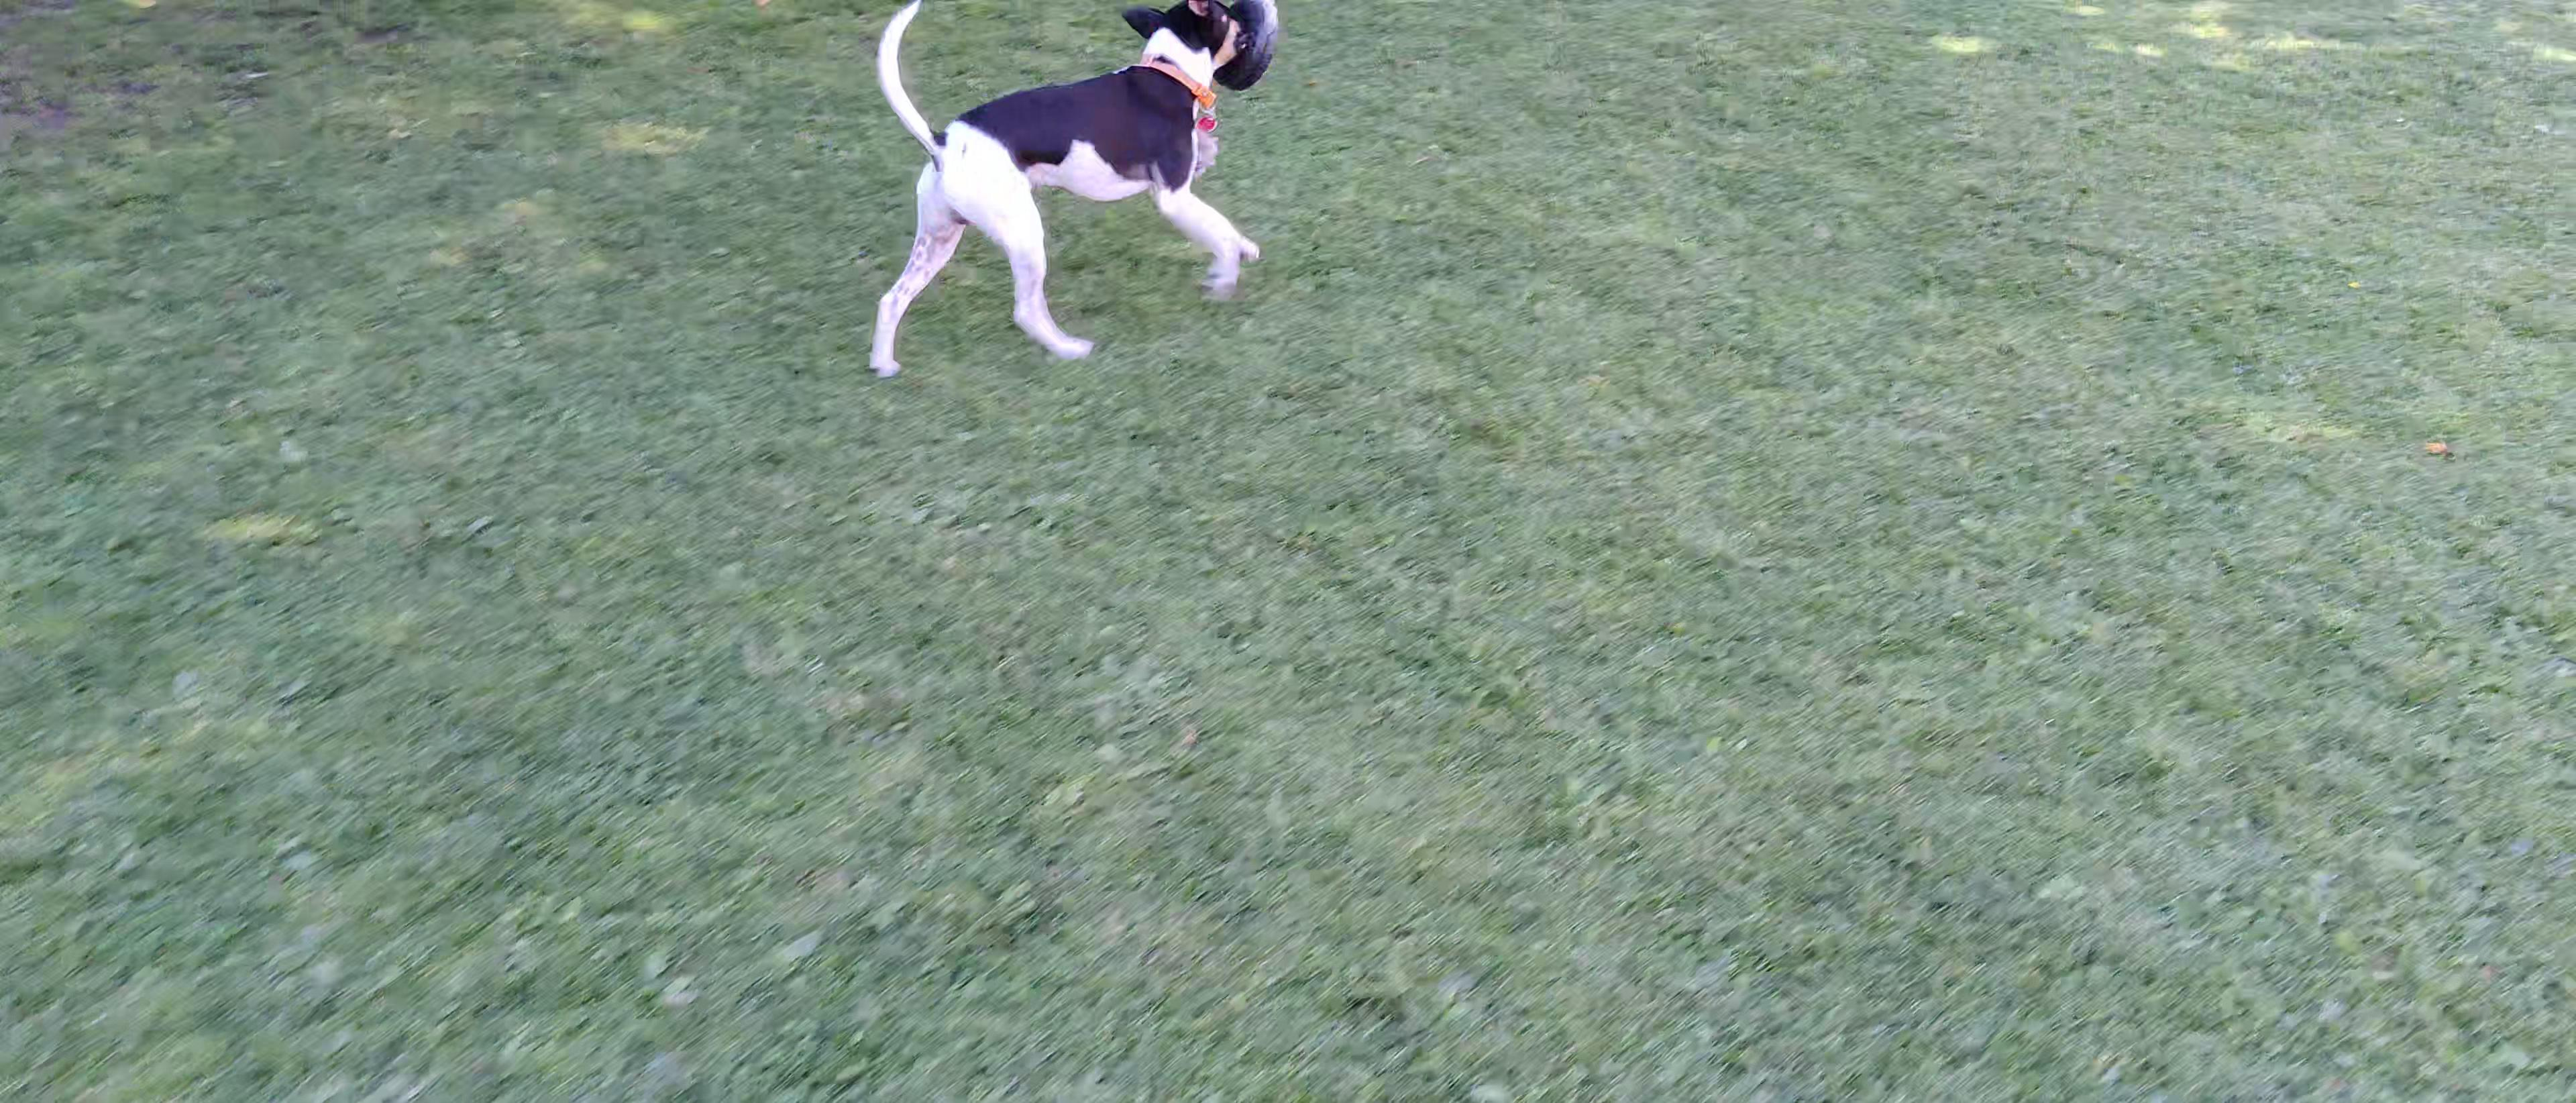Dog: (864, 0, 1263, 378)
